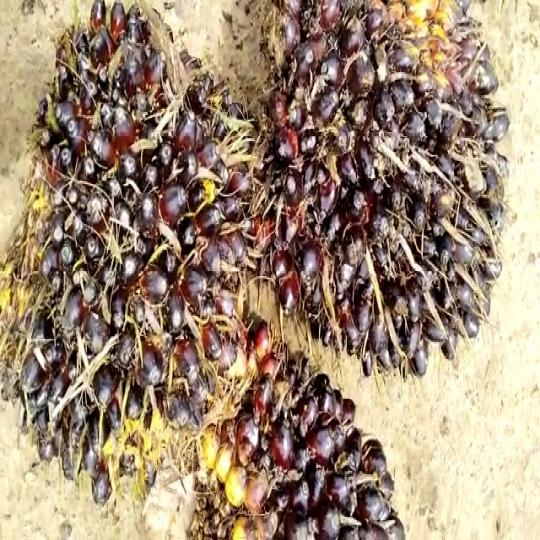mentah: (1, 0, 256, 488), (247, 0, 512, 376), (178, 325, 419, 536)
